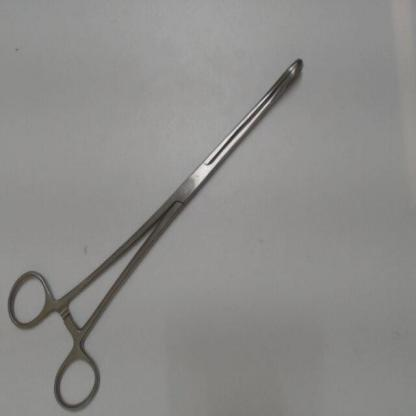Sponge Forceps: (1, 47, 311, 415)
